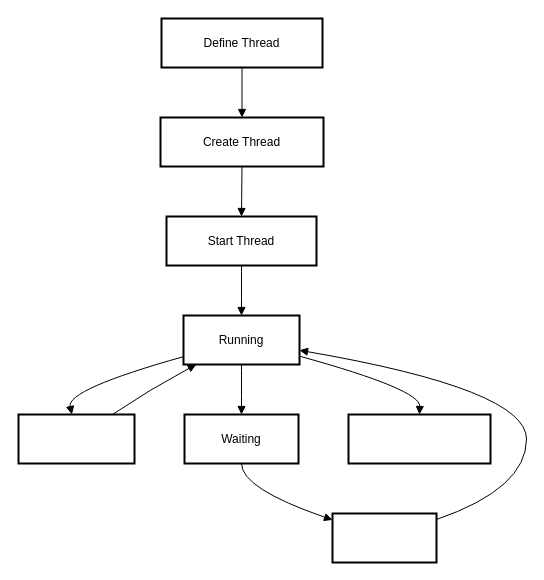
Some shapes in this 544 by 580 pixel diagram are drawn without their labels. Here are the shapes that lost their labels. From the top down, the centre of each, then its label:
At (76,438): "Blocked".
At (419,438): "Terminated".
At (384,537): "Ready".
